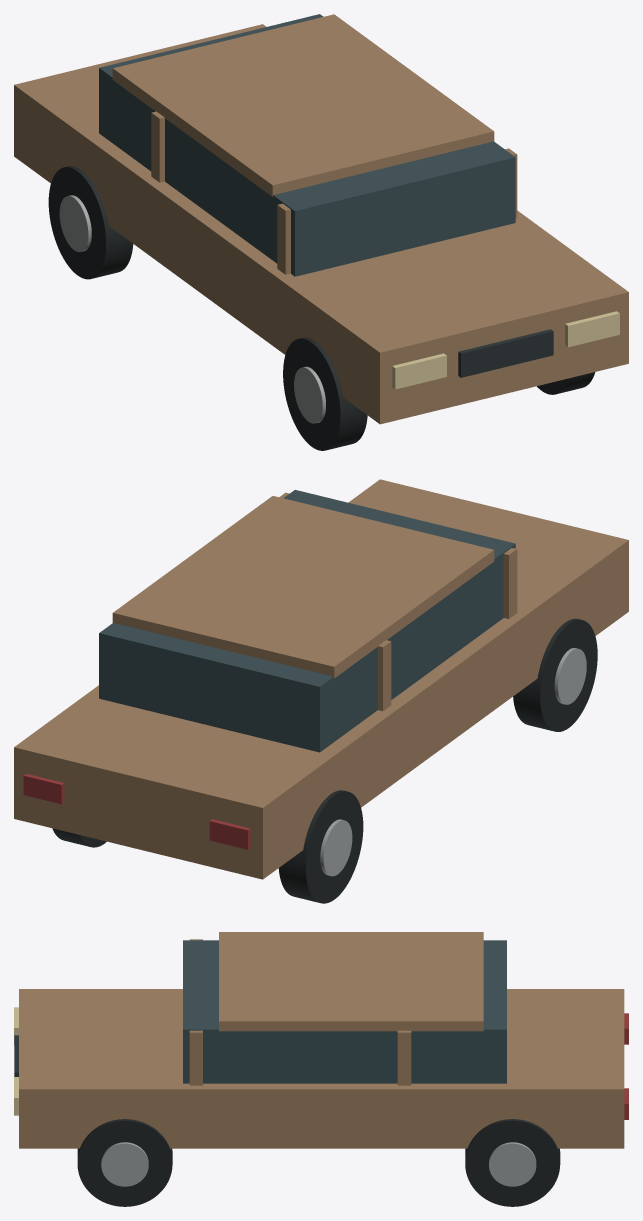
File: abandoned_tan_sedan.glb
3 views of the same model, one above another, from view 1: azimuth 30°, elevation 25°; view 2: azimuth 150°, elevation 25°; view 3: azimuth 270°, elevation 25° (orthographic). The views are drawn at different scales.
Parts seen in each view (by area): view 1: Low body, Roof, Window band, Tire.002, Tire, Grille, Hub.002, Hub, Headlight.001, Headlight, Window pillar, Window pillar.001 (+1 smaller); view 2: Low body, Roof, Window band, Tire, Tire.002, Hub.002, Hub, Window pillar, Window pillar.001, Tail light, Tail light.001; view 3: Low body, Roof, Window band, Tire.001, Tire.003, Hub.001, Hub.003, Window pillar.003, Window pillar.002.
Part boxes in pixels (bbox=[...]): Low body: bbox=[14, 24, 628, 424]; Roof: bbox=[112, 14, 494, 196]; Window band: bbox=[99, 14, 515, 276]; Tire.002: bbox=[48, 166, 133, 279]; Tire: bbox=[283, 337, 367, 450]; Grille: bbox=[458, 329, 553, 377]; Hub.002: bbox=[59, 195, 91, 251]; Hub: bbox=[294, 366, 325, 423]; Headlight.001: bbox=[565, 311, 619, 347]; Headlight: bbox=[392, 353, 446, 389]; Window pillar: bbox=[277, 203, 290, 274]; Window pillar.001: bbox=[151, 111, 164, 182]; Low body: bbox=[14, 479, 628, 879]; Roof: bbox=[112, 496, 494, 678]; Window band: bbox=[99, 490, 515, 752]; Tire: bbox=[513, 618, 597, 731]; Tire.002: bbox=[278, 790, 363, 903]; Hub.002: bbox=[320, 819, 352, 876]; Hub: bbox=[554, 648, 586, 704]; Window pillar: bbox=[503, 548, 517, 618]; Window pillar.001: bbox=[377, 640, 391, 711]; Tail light: bbox=[209, 819, 250, 849]; Tail light.001: bbox=[23, 773, 64, 804]; Low body: bbox=[19, 989, 624, 1148]; Roof: bbox=[219, 932, 483, 1031]; Window band: bbox=[183, 940, 506, 1083]; Tire.001: bbox=[77, 1119, 172, 1206]; Tire.003: bbox=[465, 1119, 560, 1206]; Hub.001: bbox=[101, 1142, 148, 1186]; Hub.003: bbox=[489, 1142, 536, 1186]; Window pillar.003: bbox=[397, 1030, 411, 1085]; Window pillar.002: bbox=[189, 1030, 202, 1085].
Bounding box in the file's own units: 1.78 × 1.39 × 4.35.
